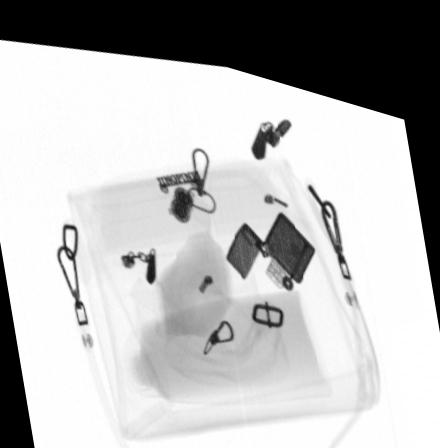Lighter: (224, 195, 315, 274)
